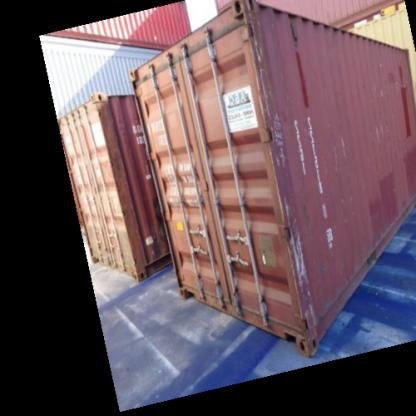Damage: (245, 18, 278, 122), (286, 235, 317, 302), (267, 193, 306, 230), (368, 114, 398, 146), (340, 131, 354, 164), (372, 83, 394, 103), (371, 51, 388, 73)
